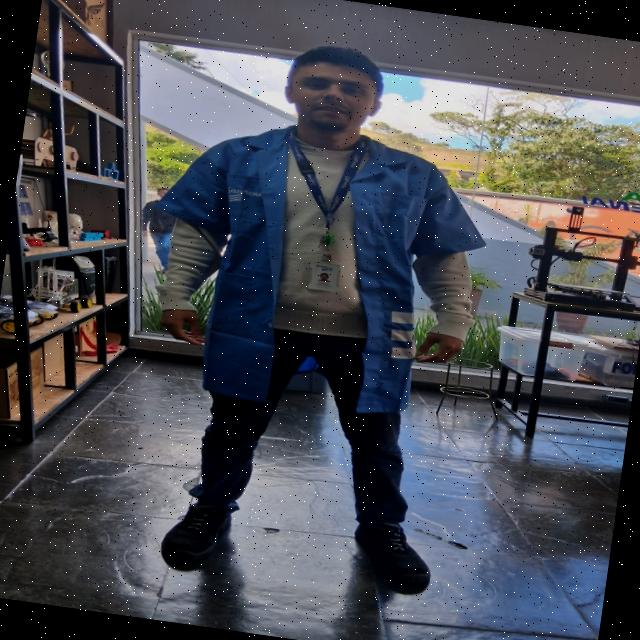BOTA: (351, 521, 436, 583), (153, 499, 237, 560)
JALECO: (158, 120, 498, 414)
SEM LUVA: (153, 307, 210, 347), (411, 332, 466, 364), (141, 230, 150, 237)
